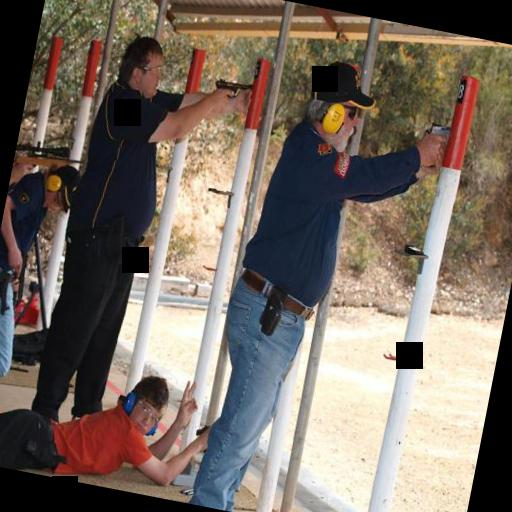Handgun: (208, 72, 262, 104), (417, 118, 451, 151)
